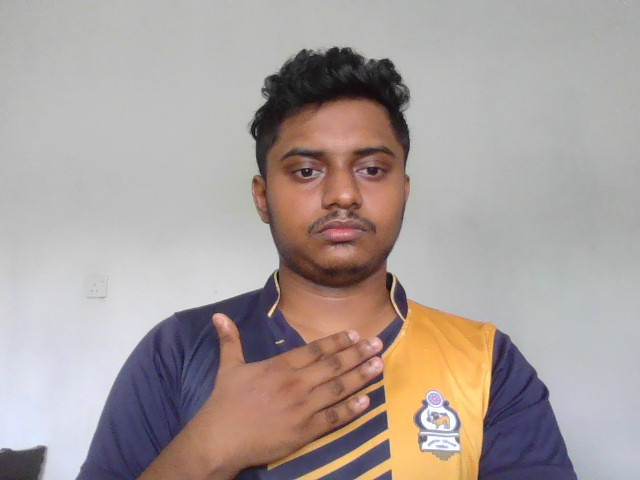Please: (211, 311, 383, 473)
